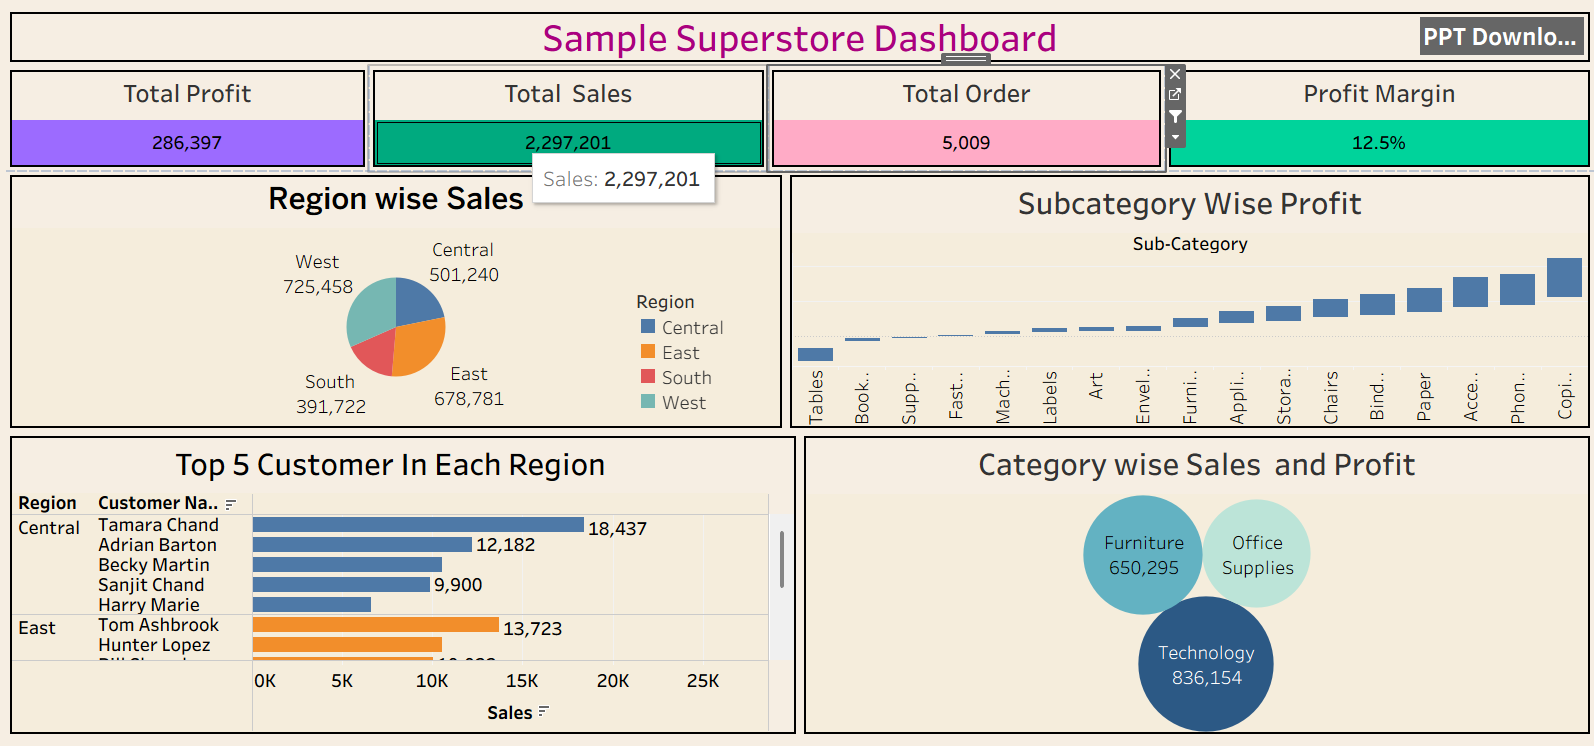

The page's visual inventory and layout, read from the dashboard file:
{"tool":"tableau","page":{"name":"Dashboard 1","canvas":[1000,1000],"units":"permille","ordinal":0},"visuals":[{"type":"title","box":[5,10.7,990,77.7]},{"type":"dashboard-object","box":[886.5,22.8,102.2,50.9]},{"type":"worksheet","title":"Total Profit","mark":"Automatic","box":[5,88.5,226.3,141.2]},{"type":"worksheet","title":"Total  Sales","mark":"Automatic","box":[231.3,88.5,248.8,141.2]},{"type":"worksheet","title":"Total Order","mark":"Automatic","box":[480,88.5,247.5,141.2]},{"type":"worksheet","title":"Profit Margin","mark":"Automatic","box":[727.6,88.5,267.5,141.2]},{"type":"worksheet","title":"Sheet 6","mark":"Pie","box":[5,229.6,486.3,349.4]},{"type":"worksheet","title":"Sheet 5","mark":"GanttBar","rows":["Profit"],"cols":["Sub-Category"],"box":[491.3,229.6,503.7,349.4]},{"type":"legend","title":"Sheet 6","param":"[federated.1i1z7q114ln3an105ffuk0pk3udx].[none:Region:nk]","box":[397.8,386.1,87.3,168.9]},{"type":"worksheet","title":"Sheet 7","mark":"Automatic","rows":["Region","Customer Name"],"cols":["Sales"],"box":[5,579.1,495,410.2]},{"type":"worksheet","title":"Sheet 8","mark":"Circle","box":[500,579.1,495,410.2]}]}

Visuals, with their boxes on the dashboard's canvas, which has no fixed pixel size, in thousandths of its width and height (x1, y1, x2, y2). These are canvas units, not pixel positions in the 1594x746 screenshot, which may show the page scaled, cropped or inside an application window:
title: BBox(5, 11, 995, 88)
dashboard-object: BBox(886, 23, 989, 74)
"Total Profit" worksheet: BBox(5, 88, 231, 230)
"Total  Sales" worksheet: BBox(231, 88, 480, 230)
"Total Order" worksheet: BBox(480, 88, 728, 230)
"Profit Margin" worksheet: BBox(728, 88, 995, 230)
"Sheet 6" worksheet (Pie marks): BBox(5, 230, 491, 579)
"Sheet 5" worksheet (GanttBar marks): BBox(491, 230, 995, 579)
"Sheet 6" legend: BBox(398, 386, 485, 555)
"Sheet 7" worksheet: BBox(5, 579, 500, 989)
"Sheet 8" worksheet (Circle marks): BBox(500, 579, 995, 989)
